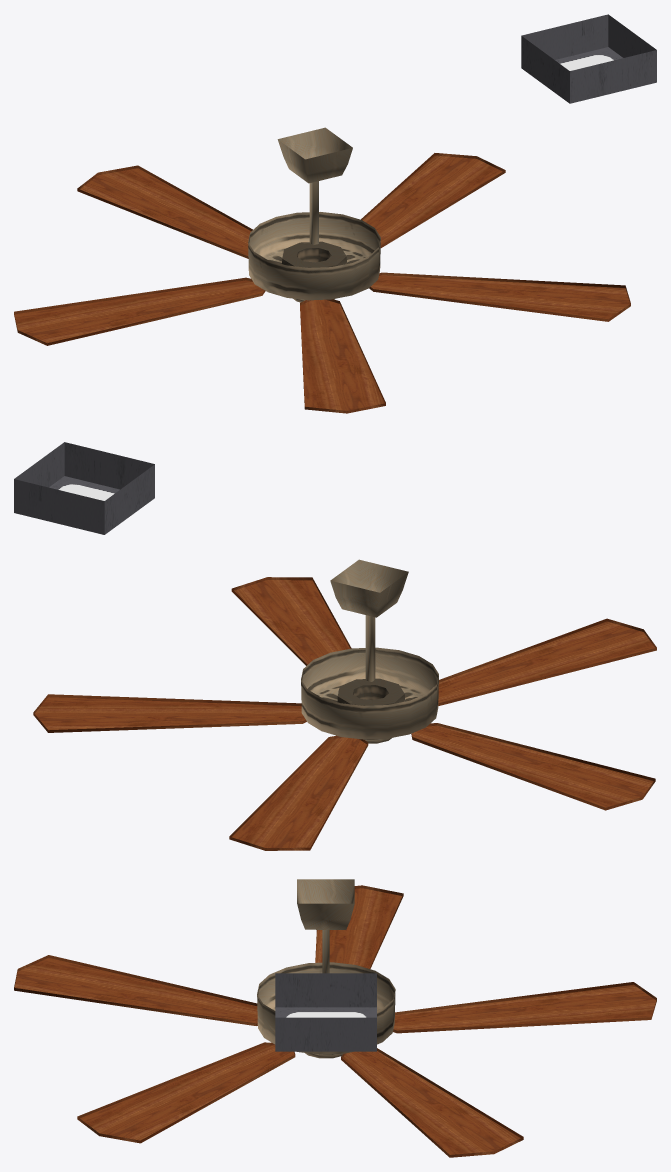
The model's file is DiaoShan.FBX.
The picture shows the model from 3 angles, top to bottom: view 1: azimuth 30°, elevation 25°; view 2: azimuth 150°, elevation 25°; view 3: azimuth 270°, elevation 25°; orthographic projection. The views are drawn at different scales.
Visible parts, largest first — view 1: YF_Model_DiaoShan, YF_Model_SheDeng; view 2: YF_Model_DiaoShan, YF_Model_SheDeng; view 3: YF_Model_DiaoShan, YF_Model_SheDeng.
Part boxes in pixels (x1,y1,x2,y2): YF_Model_DiaoShan: [14, 127, 630, 413]; YF_Model_SheDeng: [521, 14, 656, 103]; YF_Model_DiaoShan: [33, 559, 656, 850]; YF_Model_SheDeng: [14, 442, 154, 534]; YF_Model_DiaoShan: [14, 879, 656, 1157]; YF_Model_SheDeng: [275, 973, 376, 1051].
Size of the model in its own units: 117 by 35.81 by 105.
